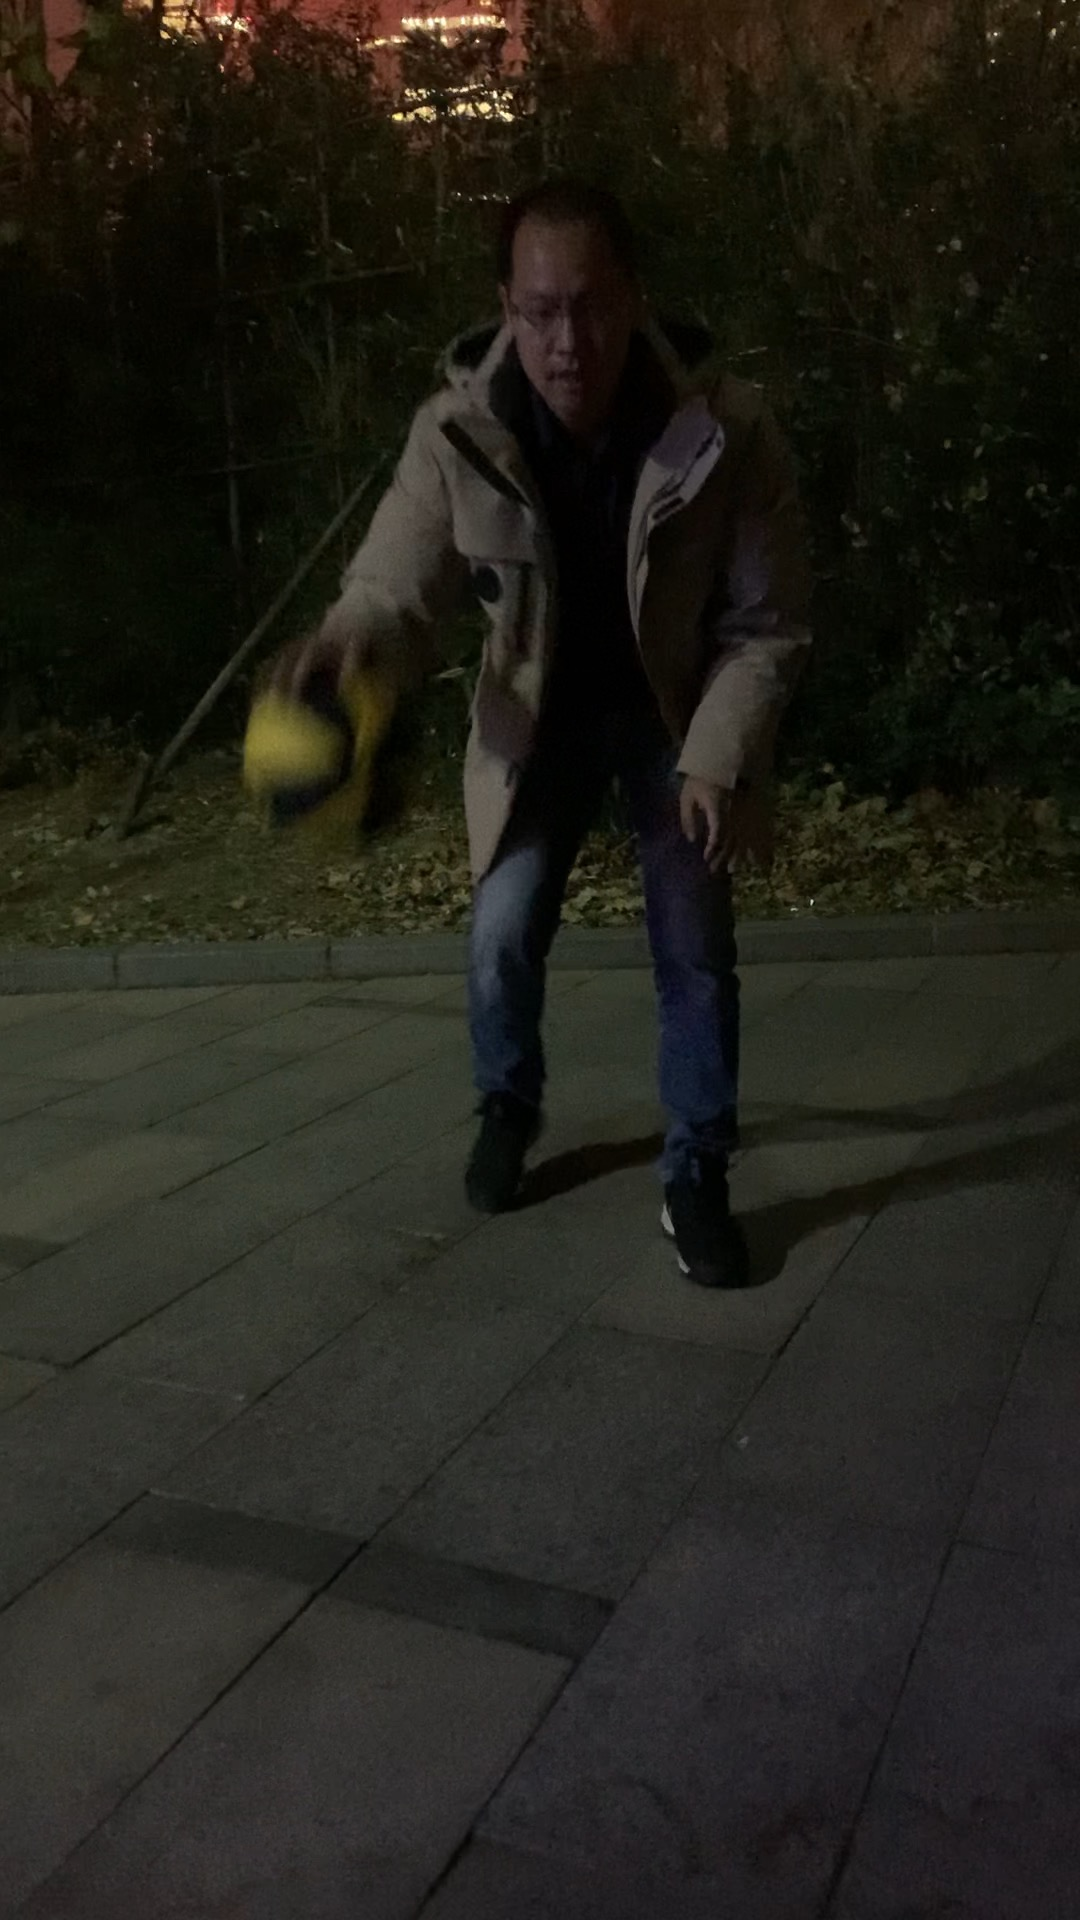ball: (240, 659, 430, 861)
